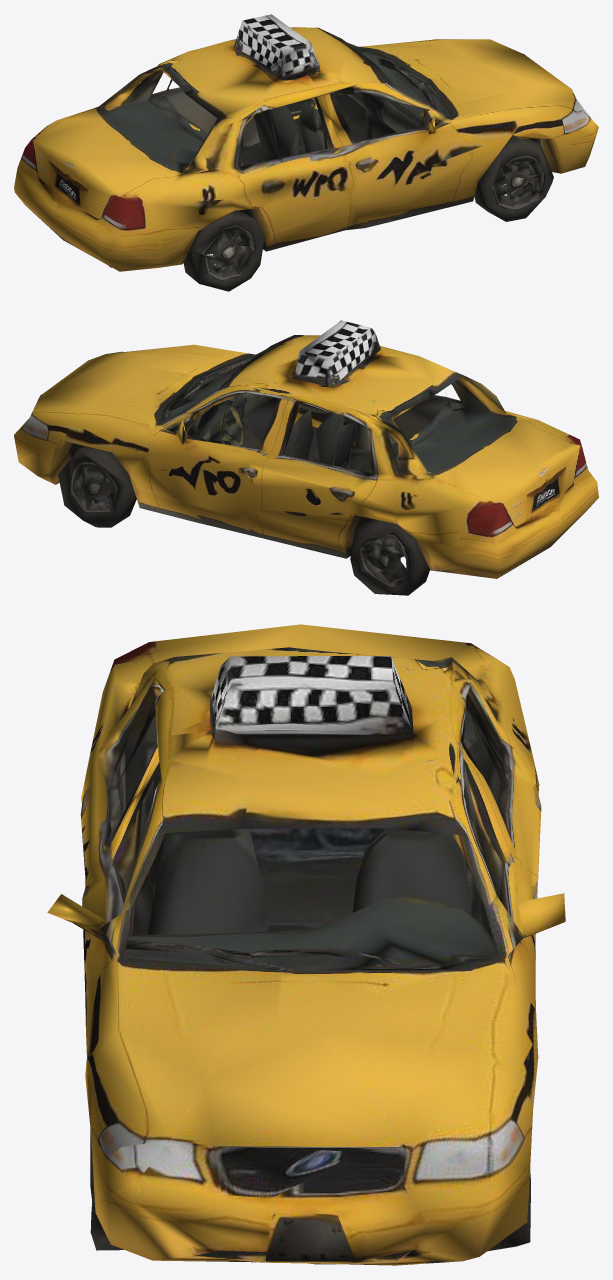
File: car0.glb
The picture shows the model from 3 angles, top to bottom: view 1: azimuth 30°, elevation 25°; view 2: azimuth 150°, elevation 25°; view 3: azimuth 270°, elevation 25°; orthographic projection. The views are drawn at different scales.
Parts seen in each view (by area): view 1: tripo_node_5c19e2af-5275-4540-97ae-fbfcd4805980; view 2: tripo_node_5c19e2af-5275-4540-97ae-fbfcd4805980; view 3: tripo_node_5c19e2af-5275-4540-97ae-fbfcd4805980.
Part boxes in pixels (bbox=[...]): tripo_node_5c19e2af-5275-4540-97ae-fbfcd4805980: bbox=[14, 14, 598, 291]; tripo_node_5c19e2af-5275-4540-97ae-fbfcd4805980: bbox=[14, 320, 598, 595]; tripo_node_5c19e2af-5275-4540-97ae-fbfcd4805980: bbox=[47, 624, 565, 1265].
Size of the model in its own units: 0.9992 by 0.3649 by 0.4357.
Materials: 1 (1 with a texture image).
